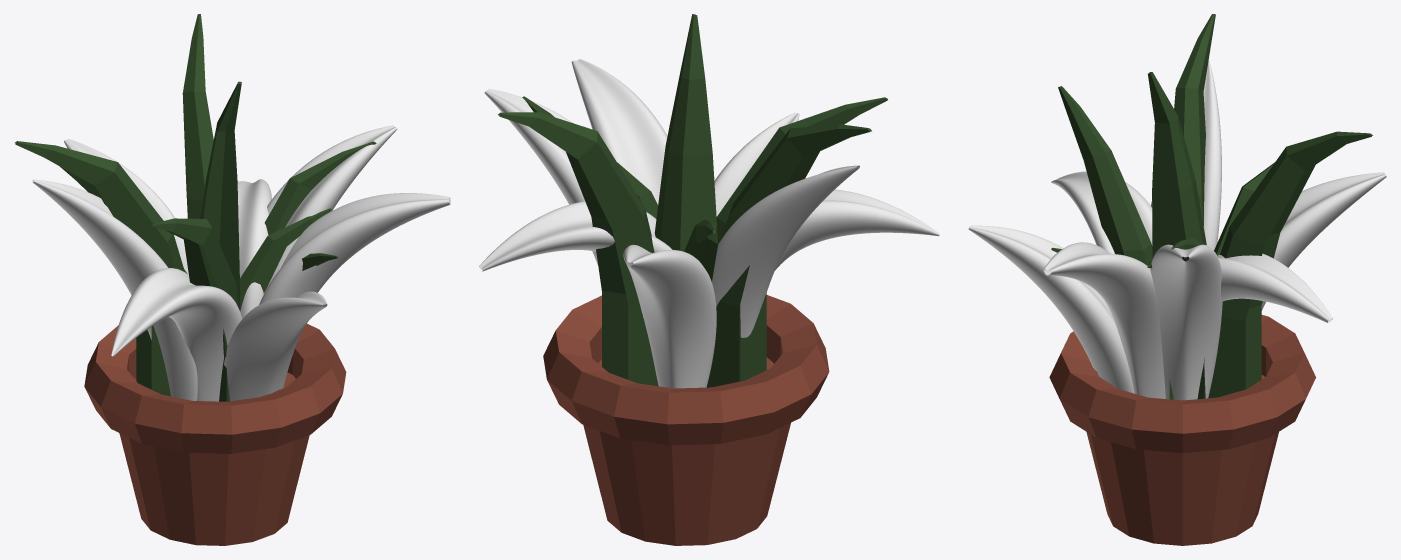
File: flowerpot.fbx
The picture shows the model from 3 angles, left to right: view 1: azimuth 30°, elevation 25°; view 2: azimuth 150°, elevation 25°; view 3: azimuth 270°, elevation 25°; orthographic projection. The views are drawn at different scales.
Parts seen in each view (by area): view 1: Torus.001, Cylinder, NurbsPath.006, NurbsPath.004, NurbsPath.003, Cube, NurbsPath.005, Cube.007, Cube.006, NurbsPath, Cube.002, NurbsPath.001 (+3 smaller); view 2: Torus.001, Cylinder, Cube.006, NurbsPath.002, Cube.007, Cube, NurbsPath.003, NurbsPath.004, NurbsPath.006, NurbsPath.001, NurbsPath, Cube.002 (+3 smaller); view 3: Torus.001, Cylinder, Cube.006, NurbsPath, NurbsPath.004, NurbsPath.005, Cube.007, Cube.002, NurbsPath.001, NurbsPath.002, Cube, NurbsPath.003 (+3 smaller).
Boxes of the visible parts, x1,y1,x2,y2 form: Torus.001: (84, 323, 346, 453); Cylinder: (119, 372, 309, 545); NurbsPath.006: (111, 268, 242, 401); NurbsPath.004: (259, 193, 450, 304); NurbsPath.003: (32, 179, 197, 400); Cube: (15, 141, 184, 396); NurbsPath.005: (224, 291, 327, 401); Cube.007: (200, 81, 241, 310); Cube.006: (182, 14, 213, 218); NurbsPath: (266, 125, 397, 289); Cube.002: (151, 218, 238, 401); NurbsPath.001: (237, 179, 271, 318); Torus.001: (543, 295, 829, 445); Cylinder: (583, 357, 790, 545); Cube.006: (498, 112, 658, 386); NurbsPath.002: (623, 244, 716, 388); Cube.007: (654, 14, 718, 251); Cube: (706, 124, 871, 387); NurbsPath.003: (712, 165, 859, 337); NurbsPath.004: (571, 59, 667, 204); NurbsPath.006: (775, 189, 939, 270); NurbsPath.001: (479, 201, 672, 271); NurbsPath: (484, 89, 598, 265); Cube.002: (716, 97, 887, 243); Torus.001: (1049, 315, 1315, 453); Cylinder: (1086, 375, 1278, 545); Cube.006: (1208, 131, 1372, 398); NurbsPath: (1150, 244, 1222, 400); NurbsPath.004: (1043, 242, 1165, 398); NurbsPath.005: (968, 225, 1134, 393); Cube.007: (1148, 72, 1206, 258); Cube.002: (1058, 86, 1152, 265); NurbsPath.001: (1217, 253, 1332, 323); NurbsPath.002: (1261, 172, 1386, 310); Cube: (1174, 14, 1215, 225); NurbsPath.003: (1151, 60, 1221, 250).
Size of the model in its own units: 4.02 by 4.62 by 3.93.
